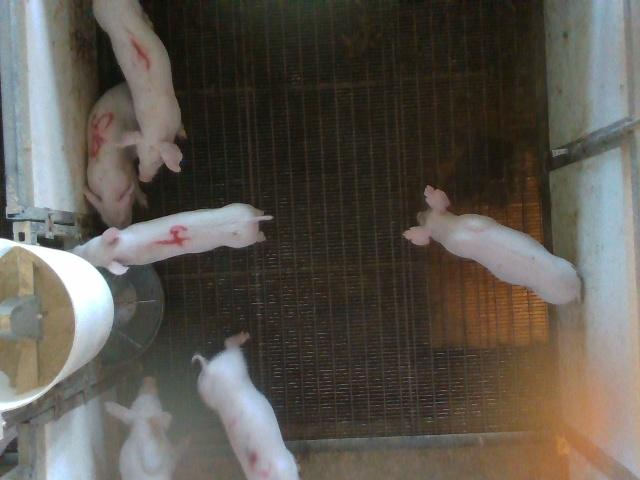pig-1: (94, 0, 184, 181)
pig-3: (192, 339, 299, 478)
pig-4: (72, 204, 271, 274)
pig-5: (84, 82, 148, 228)
